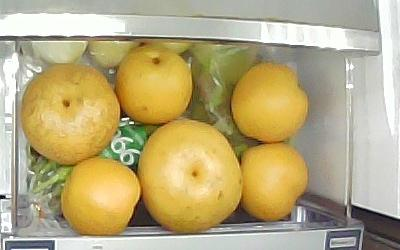pear: (136, 119, 244, 234), (21, 62, 120, 165), (59, 157, 141, 235), (232, 62, 308, 143), (116, 45, 193, 124), (237, 144, 308, 221)
